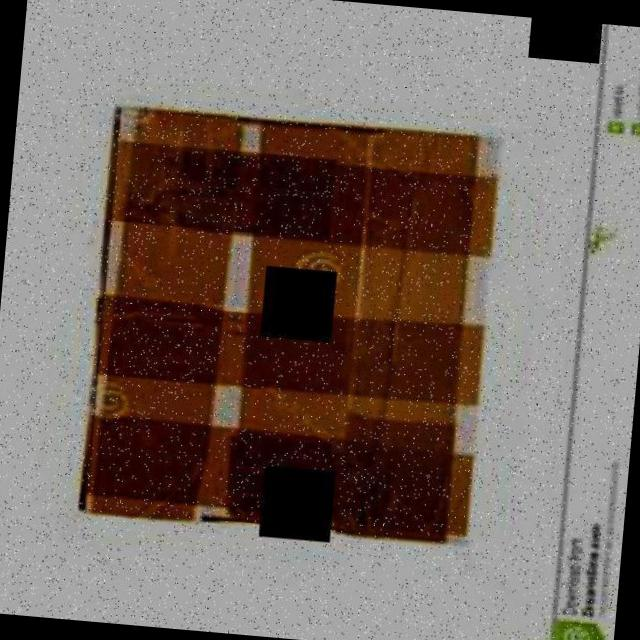box: (66, 79, 509, 558)
